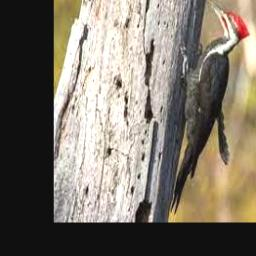Woodpecker: (170, 0, 250, 213)
